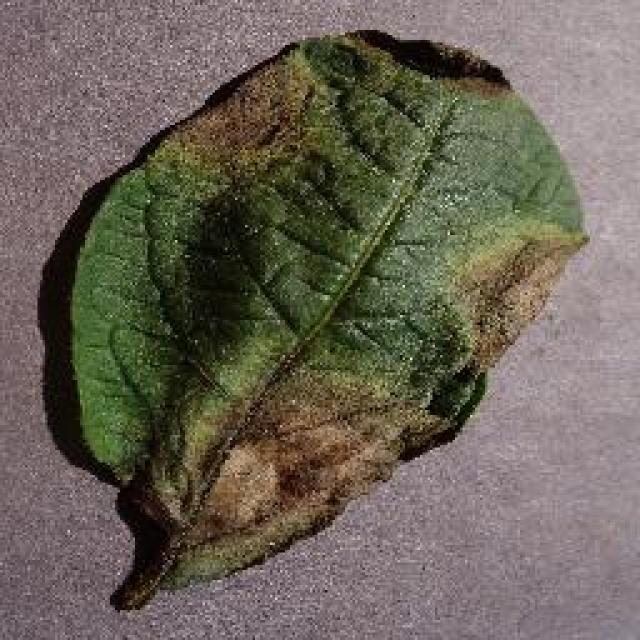late_blight: (45, 22, 593, 612)
